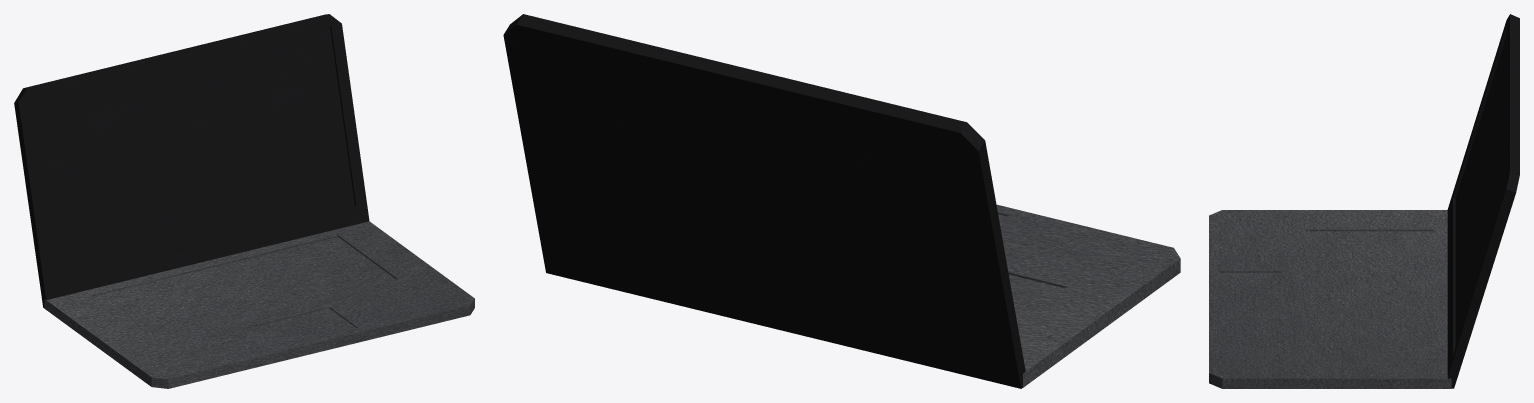
File: 05_laptop2_destructible_power_off.glb
3 views of the same model, side by side, from view 1: azimuth 30°, elevation 25°; view 2: azimuth 150°, elevation 25°; view 3: azimuth 270°, elevation 25° (orthographic). The views are drawn at different scales.
Parts seen in each view (by area): view 1: Power_OffGeometry; view 2: Power_OffGeometry; view 3: Power_OffGeometry.
Boxes of the visible parts, x1,y1,x2,y2 form: Power_OffGeometry: [14, 14, 474, 388]; Power_OffGeometry: [503, 14, 1180, 388]; Power_OffGeometry: [1209, 14, 1519, 388].
Size of the model in its own units: 0.4524 by 0.2651 by 0.3522.
Materials: 2 (2 with a texture image).
